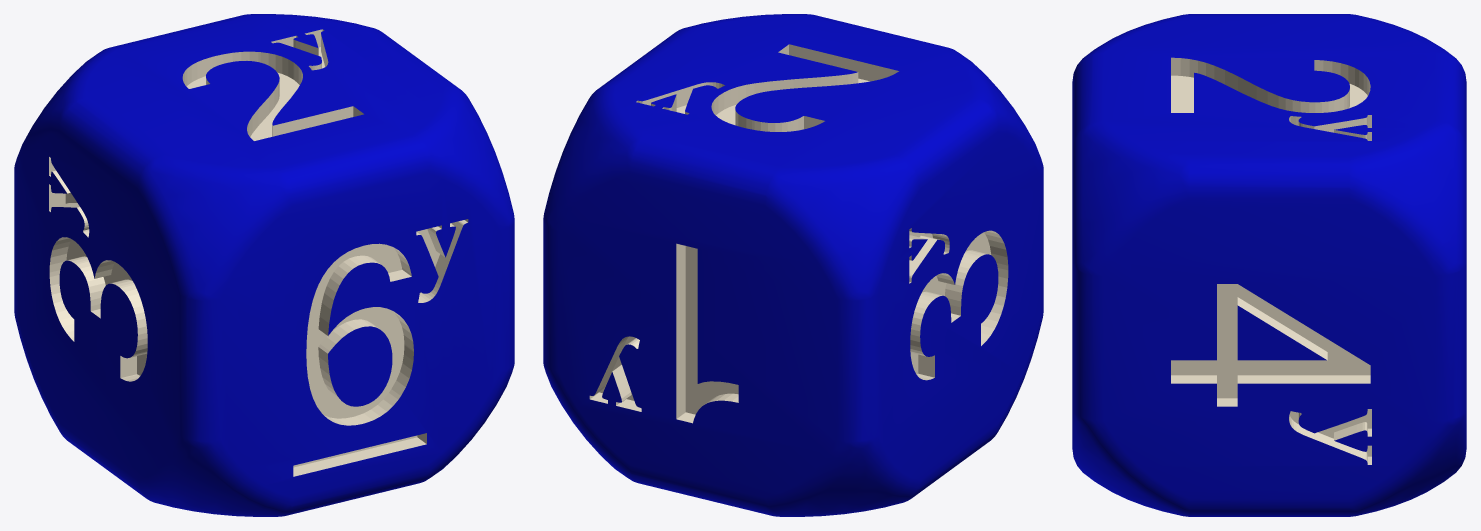
The model's file is Die Y Dimension Blue.glb.
3 renders of one model, left to right at view 1: azimuth 30°, elevation 25°; view 2: azimuth 150°, elevation 25°; view 3: azimuth 270°, elevation 25°, orthographic. The views are drawn at different scales.
Parts seen in each view (by area): view 1: Die_Body; view 2: Die_Body; view 3: Die_Body.
Boxes of the visible parts, box(x1,y1,x2,y2) form: Die_Body: box(14, 14, 514, 516); Die_Body: box(543, 14, 1043, 516); Die_Body: box(1072, 14, 1466, 516).
Bounding box in the file's own units: 1 × 1 × 1.
